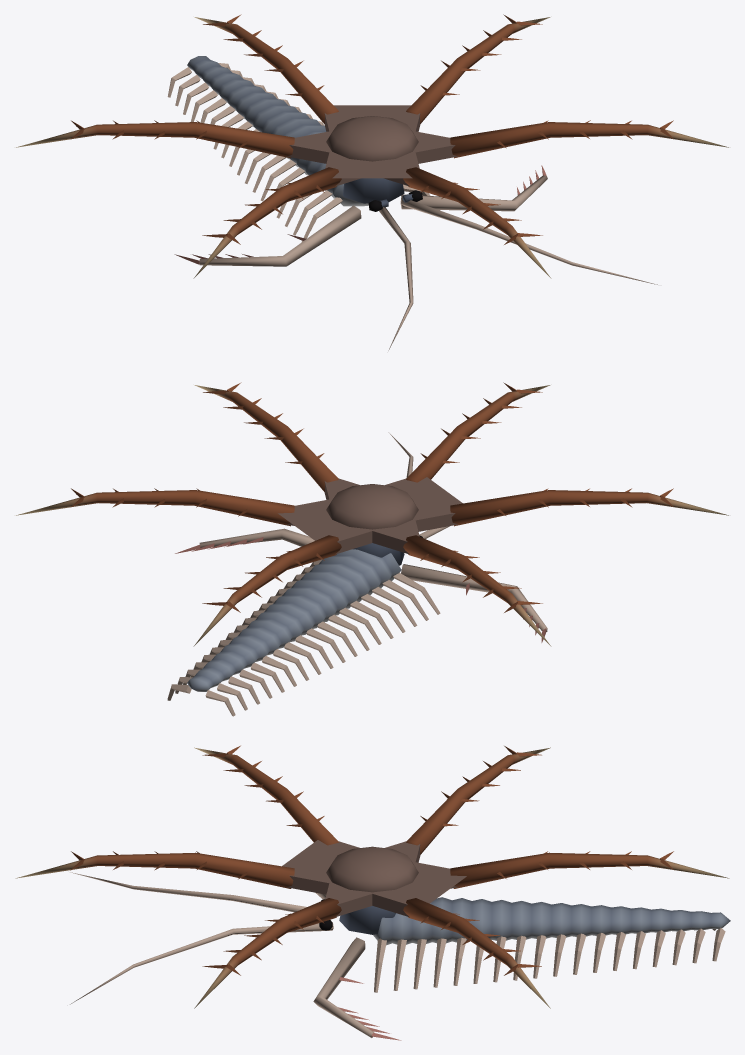
File: Mimetaster.fbx
3 renders of one model, top to bottom at view 1: azimuth 30°, elevation 25°; view 2: azimuth 150°, elevation 25°; view 3: azimuth 270°, elevation 25°, orthographic.
Visible parts, largest first — view 1: Mimetaster; view 2: Mimetaster; view 3: Mimetaster.
Boxes of the visible parts, x1,y1,x2,y2 form: Mimetaster: (16,14,728,350); Mimetaster: (16,382,728,716); Mimetaster: (15,745,730,1040).
Bounding box in the file's own units: 0.9353 × 0.1754 × 1.08.
